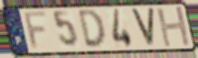4: (111, 7, 134, 51)
5: (50, 9, 82, 51)
D: (76, 8, 107, 51)
F: (22, 9, 50, 52)
H: (155, 5, 193, 49)
V: (129, 8, 156, 49)
